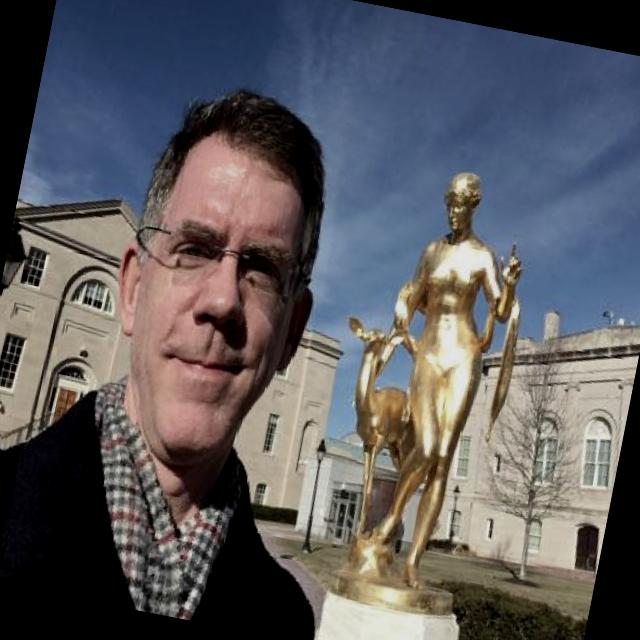Person: (0, 41, 423, 640), (333, 156, 548, 604)
